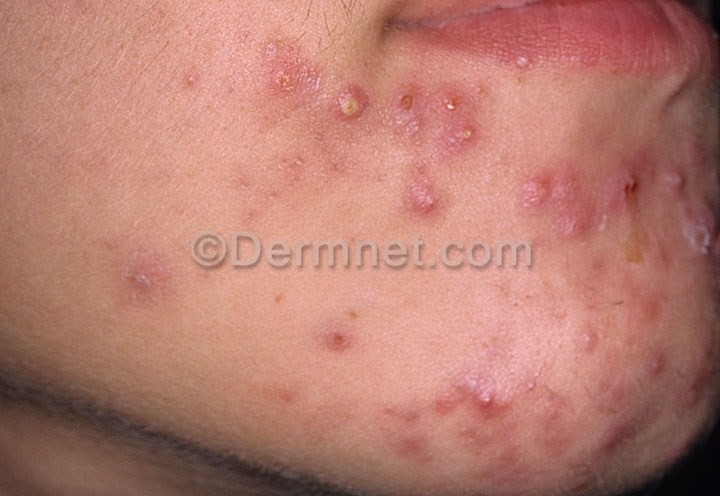Acne: (120, 40, 709, 455)
